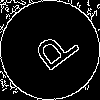P: (25, 25, 82, 79)
